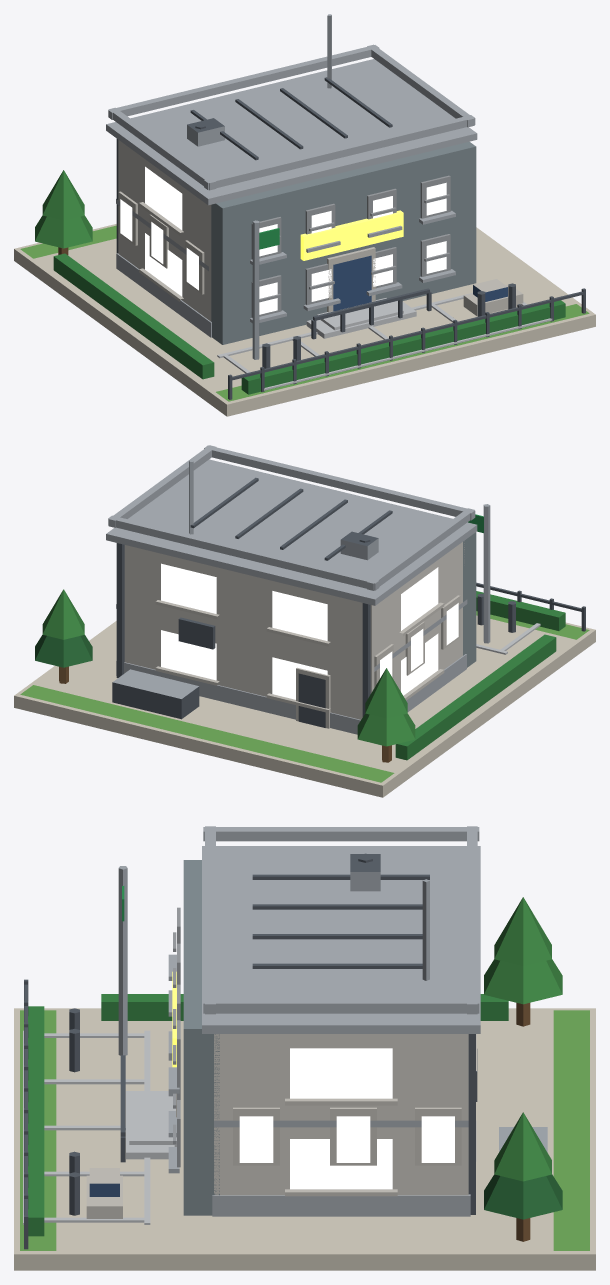
3 renders of one model, top to bottom at view 1: azimuth 30°, elevation 25°; view 2: azimuth 150°, elevation 25°; view 3: azimuth 270°, elevation 25°, orthographic. The views are drawn at different scales.
Parts seen in each view (by area): view 1: b24; view 2: b24; view 3: b24.
Part boxes in pixels (x1,y1,x2,y2): b24: (14,14,595,416); b24: (14,445,595,797); b24: (14,826,595,1270).
Size of the model in its own units: 0.99 by 0.57 by 0.96.
